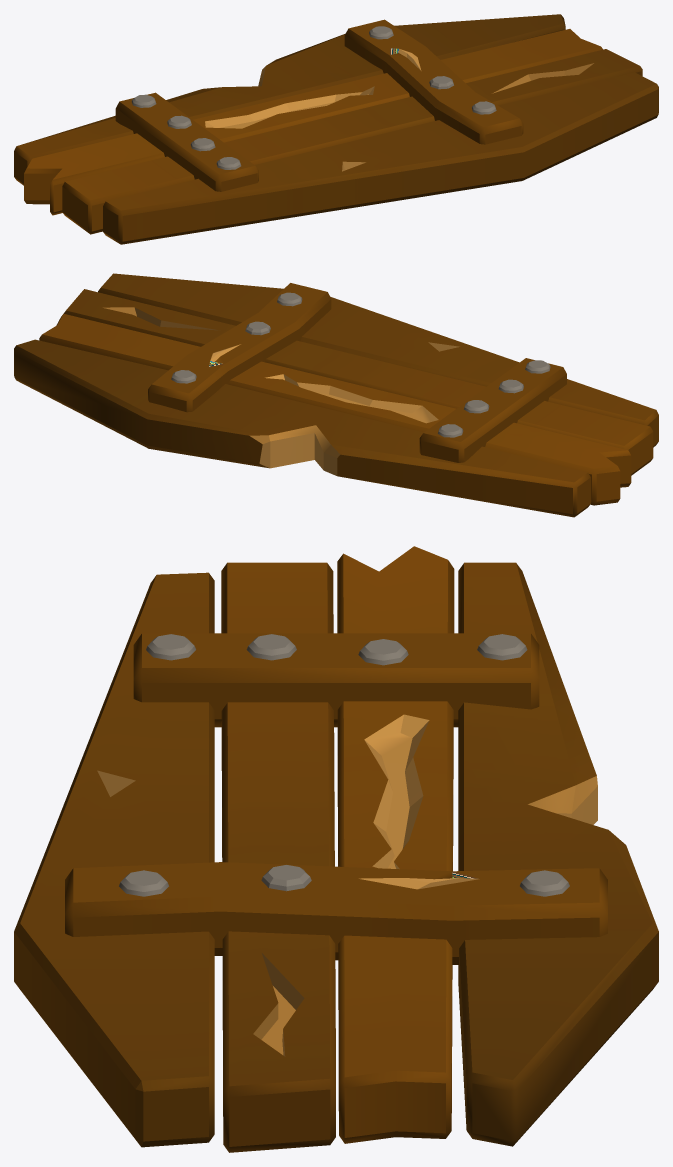
The model's file is Cofin_Lid_1_3.glb.
3 renders of one model, top to bottom at view 1: azimuth 30°, elevation 25°; view 2: azimuth 150°, elevation 25°; view 3: azimuth 270°, elevation 25°, orthographic. The views are drawn at different scales.
Visible parts, largest first — view 1: Cofin_Lid_1_3; view 2: Cofin_Lid_1_3; view 3: Cofin_Lid_1_3.
Boxes of the visible parts, x1,y1,x2,y2 form: Cofin_Lid_1_3: (14, 14, 658, 244); Cofin_Lid_1_3: (14, 273, 658, 517); Cofin_Lid_1_3: (14, 546, 658, 1152).
Size of the model in its own units: 1.38 by 0.1265 by 0.6911.
Materials: 2 (2 with a texture image).
